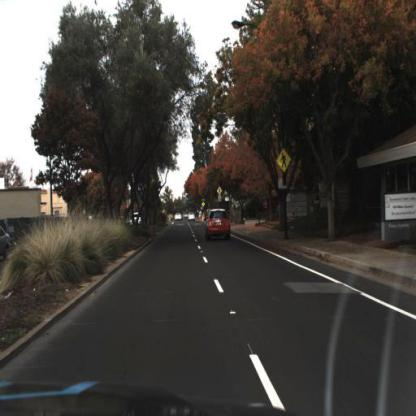car: (204, 207, 233, 239)
